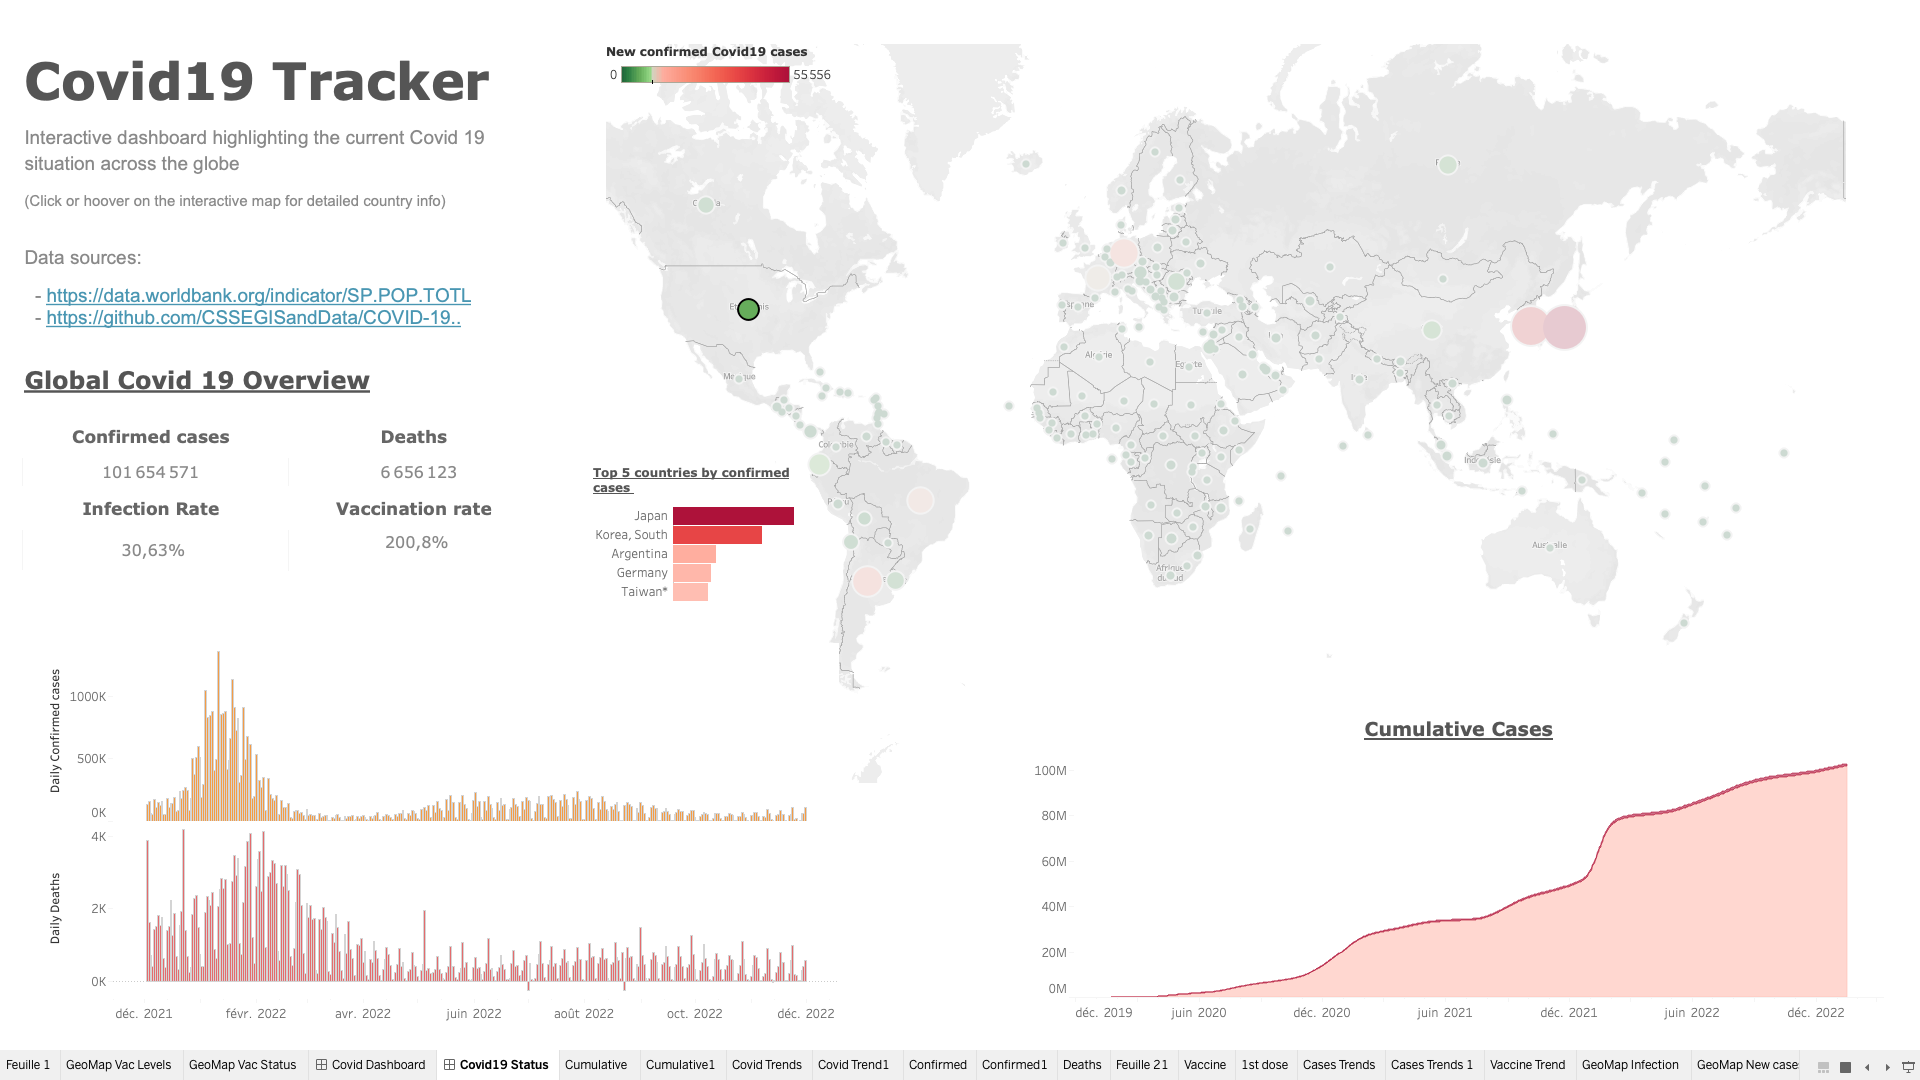

The dashboard page shown, as its layout file describes it:
{"tool":"tableau","page":{"name":"Covid19 Status ","canvas":[1900,1050],"ordinal":0},"visuals":[{"type":"title","box":[8,8,1884,32]},{"type":"text","box":[8,40,532,179]},{"type":"worksheet","title":"GeoMap New cases","mark":"Automatic","cols":["date (Vaccine)"],"box":[540,40,1352,747]},{"type":"legend","title":"GeoMap New cases","param":"[federated.0b1zsqv1sy6u9s127zj8q0cv0n31].[diff:sum:confirmed (Vaccine):qk:1]","box":[596,44,230,76]},{"type":"text","box":[8,219,532,122]},{"type":"text","box":[8,341,532,77]},{"type":"worksheet","title":"Confirmed1","mark":"Text","cols":["date"],"box":[8,418,266,73]},{"type":"worksheet","title":"Deaths","mark":"Text","cols":["date"],"box":[274,418,266,73]},{"type":"worksheet","title":"Covid Trend1 ","mark":"Bar","rows":["Country/Region"],"cols":["date"],"box":[579,461,273,169]},{"type":"worksheet","title":"Global Vac Ratio (2)","mark":"Text","cols":["date (Vaccine)"],"box":[8,491,266,107]},{"type":"worksheet","title":"Global Infection Ratio","mark":"Text","cols":["date (Vaccine)"],"box":[274,491,266,90]},{"type":"worksheet","title":"Cases Trends 1","mark":"Bar","cols":["date"],"box":[29,628,800,400]},{"type":"worksheet","title":"Cumulative1","mark":"Area","cols":["date"],"box":[1024,713,850,314]}]}

Visuals, with their boxes on the page's 1900x1050 design canvas (x1, y1, x2, y2). These are canvas units, not pixel positions in the 1920x1080 screenshot, which may show the page scaled, cropped or inside an application window:
title: region(8, 8, 1892, 40)
text: region(8, 40, 540, 219)
"GeoMap New cases" worksheet: region(540, 40, 1892, 787)
"GeoMap New cases" legend: region(596, 44, 826, 120)
text: region(8, 219, 540, 341)
text: region(8, 341, 540, 418)
"Confirmed1" worksheet (Text marks): region(8, 418, 274, 491)
"Deaths" worksheet (Text marks): region(274, 418, 540, 491)
"Covid Trend1 " worksheet (Bar marks): region(579, 461, 852, 630)
"Global Vac Ratio (2)" worksheet (Text marks): region(8, 491, 274, 598)
"Global Infection Ratio" worksheet (Text marks): region(274, 491, 540, 581)
"Cases Trends 1" worksheet (Bar marks): region(29, 628, 829, 1028)
"Cumulative1" worksheet (Area marks): region(1024, 713, 1874, 1027)
